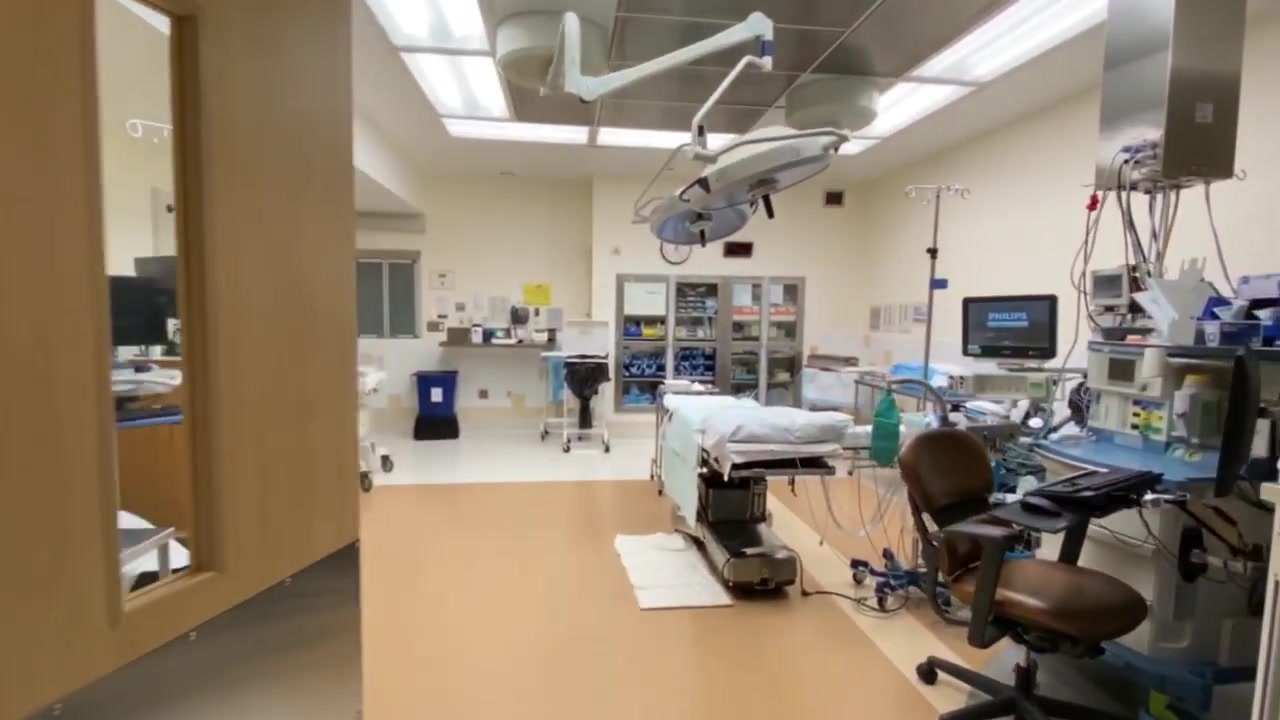bedside_monitor: (963, 292, 1059, 362), (1090, 268, 1132, 308)
cabinet: (615, 272, 806, 414)
chair: (896, 428, 1149, 720)
computer: (1208, 350, 1279, 504)
iv_pole: (898, 179, 972, 570)
keyboard: (1023, 468, 1167, 508)
medical_drawer: (979, 458, 1223, 645)
mouse: (1018, 493, 1065, 517)
operating_bed: (652, 375, 858, 591)
surgical_light: (677, 126, 853, 221), (633, 183, 754, 249)
waste_bin: (560, 351, 612, 454), (410, 370, 460, 441)
